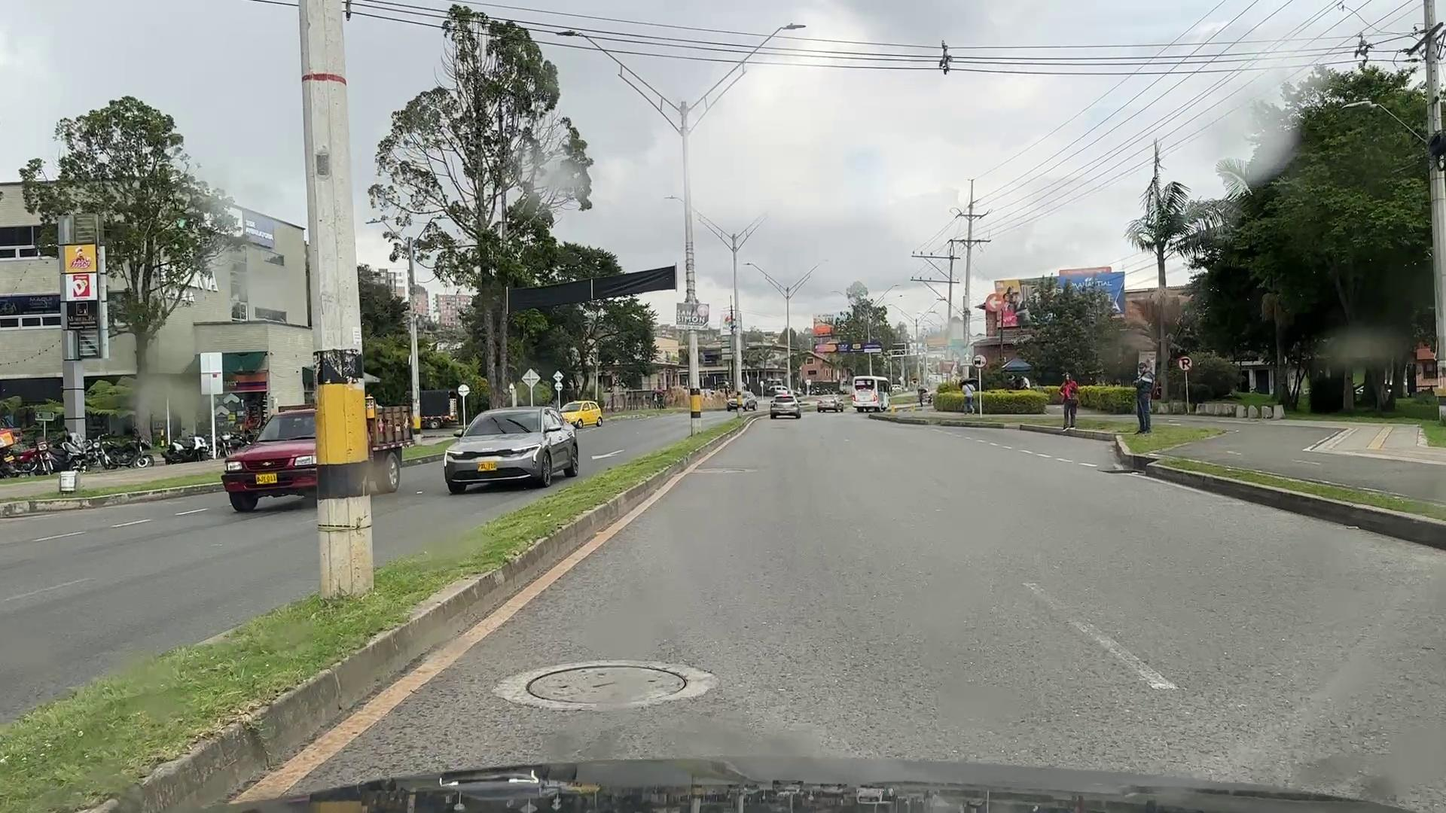registro: (526, 665, 687, 704), (703, 469, 746, 472)
rejilla: (1097, 470, 1146, 474)
